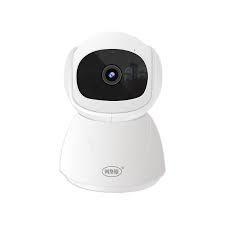maru: (65, 33, 162, 120)
